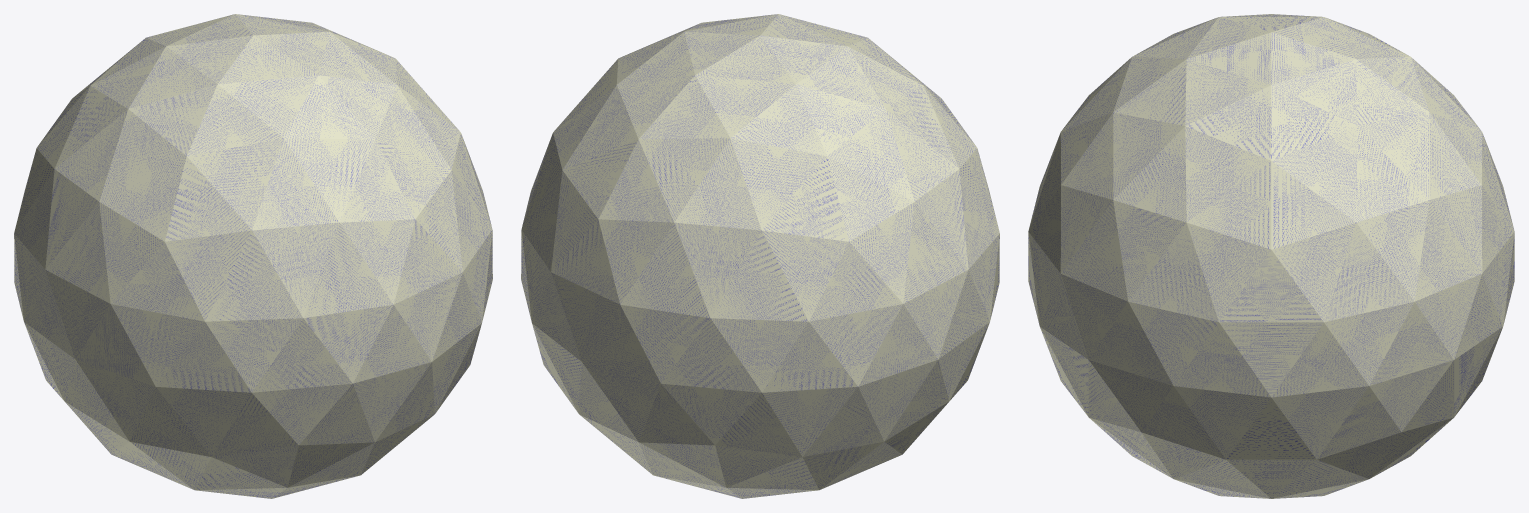
The model's file is Geodesic-Sphere.dae.
3 renders of one model, left to right at view 1: azimuth 30°, elevation 25°; view 2: azimuth 150°, elevation 25°; view 3: azimuth 270°, elevation 25°, orthographic.
Visible parts, largest first — view 1: SketchUp; view 2: SketchUp; view 3: SketchUp.
Boxes of the visible parts, x1,y1,x2,y2 form: SketchUp: (14, 14, 492, 498); SketchUp: (521, 14, 999, 498); SketchUp: (1028, 14, 1514, 498).
Bounding box in the file's own units: 120 × 120 × 122.
